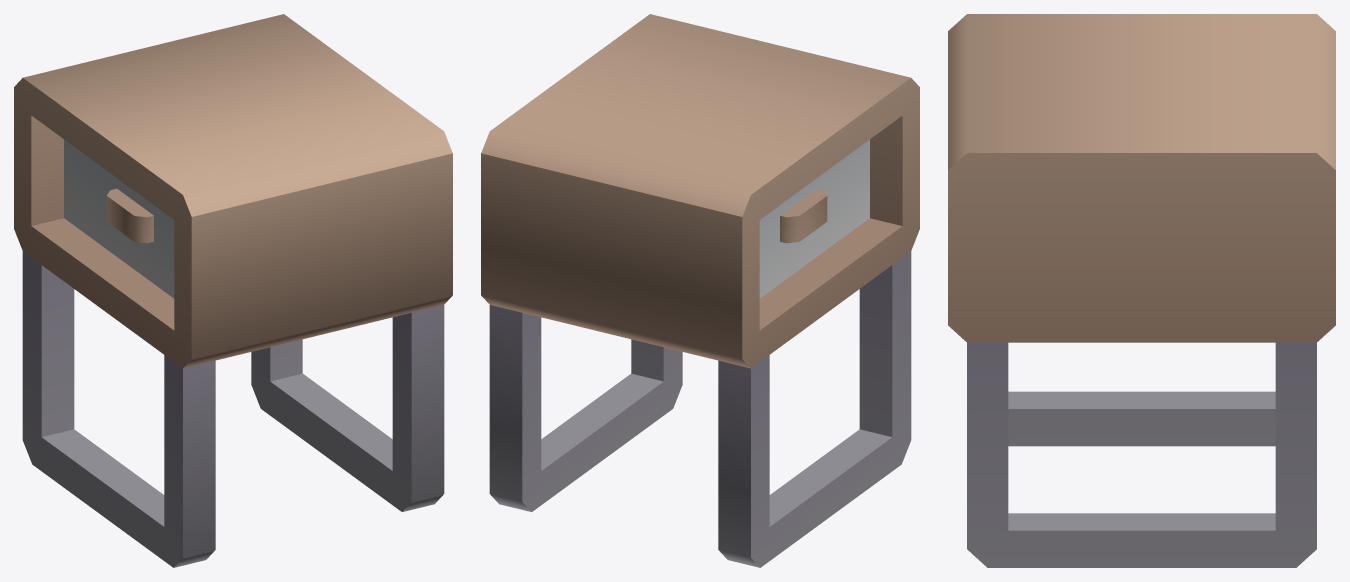
The model's file is sidetable-small-drawers-frame.glb.
The picture shows the model from 3 angles, left to right: view 1: azimuth 30°, elevation 25°; view 2: azimuth 150°, elevation 25°; view 3: azimuth 270°, elevation 25°; orthographic projection. The views are drawn at different scales.
Visible parts, largest first — view 1: sidetable-small-drawers-frame; view 2: sidetable-small-drawers-frame; view 3: sidetable-small-drawers-frame.
Boxes of the visible parts, box(x1,y1,x2,y2) form: sidetable-small-drawers-frame: box(14, 14, 452, 567); sidetable-small-drawers-frame: box(481, 14, 919, 567); sidetable-small-drawers-frame: box(948, 14, 1335, 567).
Size of the model in its own units: 0.4 by 0.556 by 0.471.
